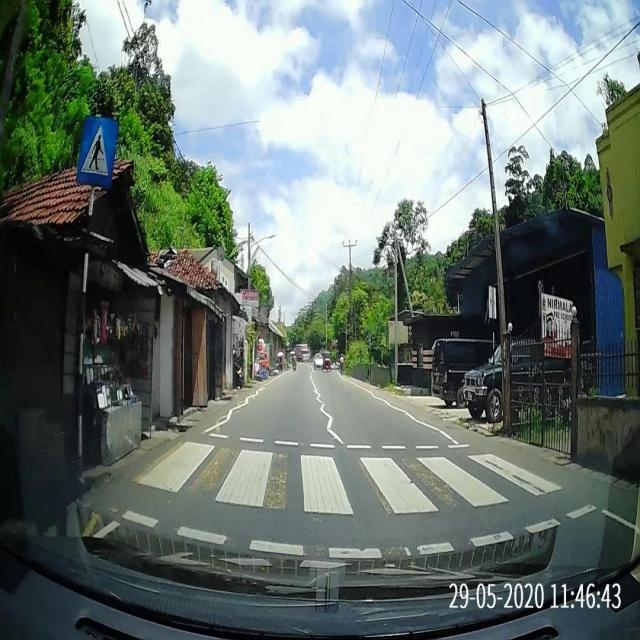Crosswalk: (127, 439, 566, 520)
